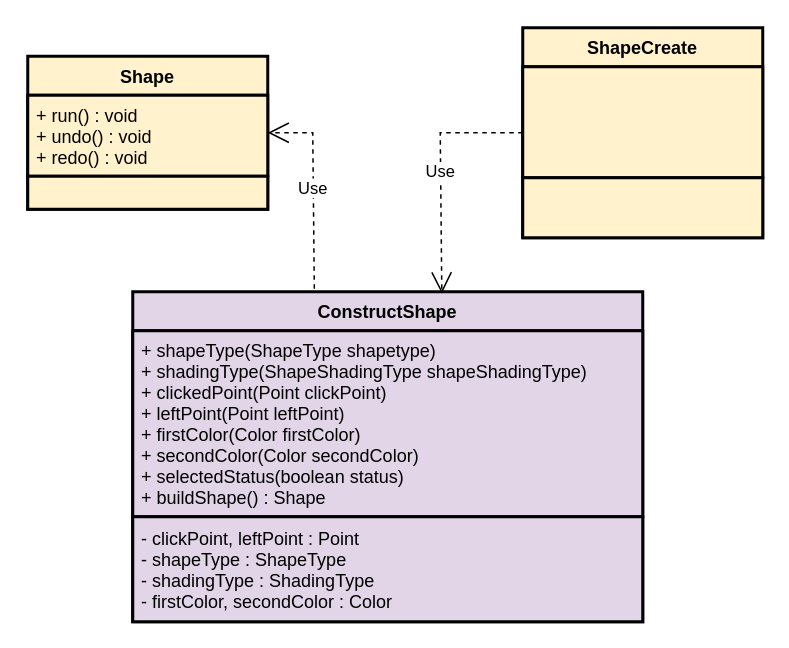
The diagram is 789 pixels wide and 648 high, and some of its shapes have lost their labels. Each missing label, with the centre of its shape:
"+ run() : void + undo() : void + redo() : void +ShapeCreate : buildShape" belongs at [642,121].
"- shape : Shape" belongs at [147,192].
"- shape : Shape -PaintCanvas : paintCanvas" belongs at [642,207].
